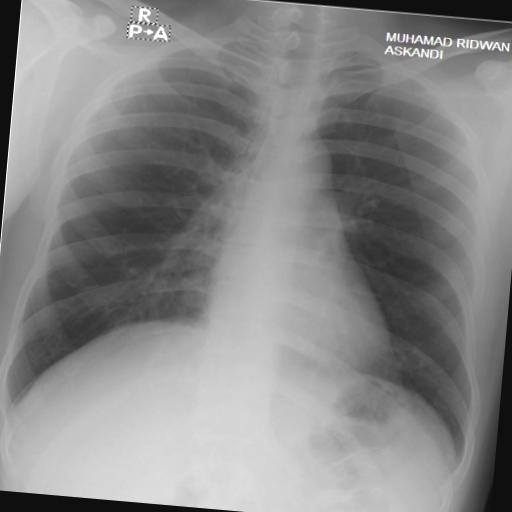normal: (0, 1, 509, 470)
